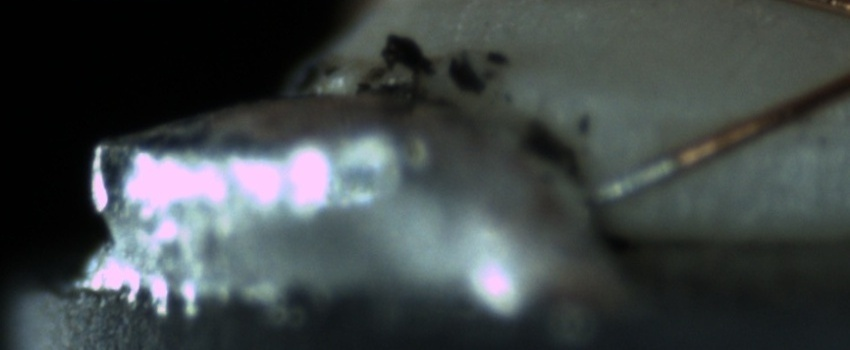TS: (591, 153, 677, 209)
